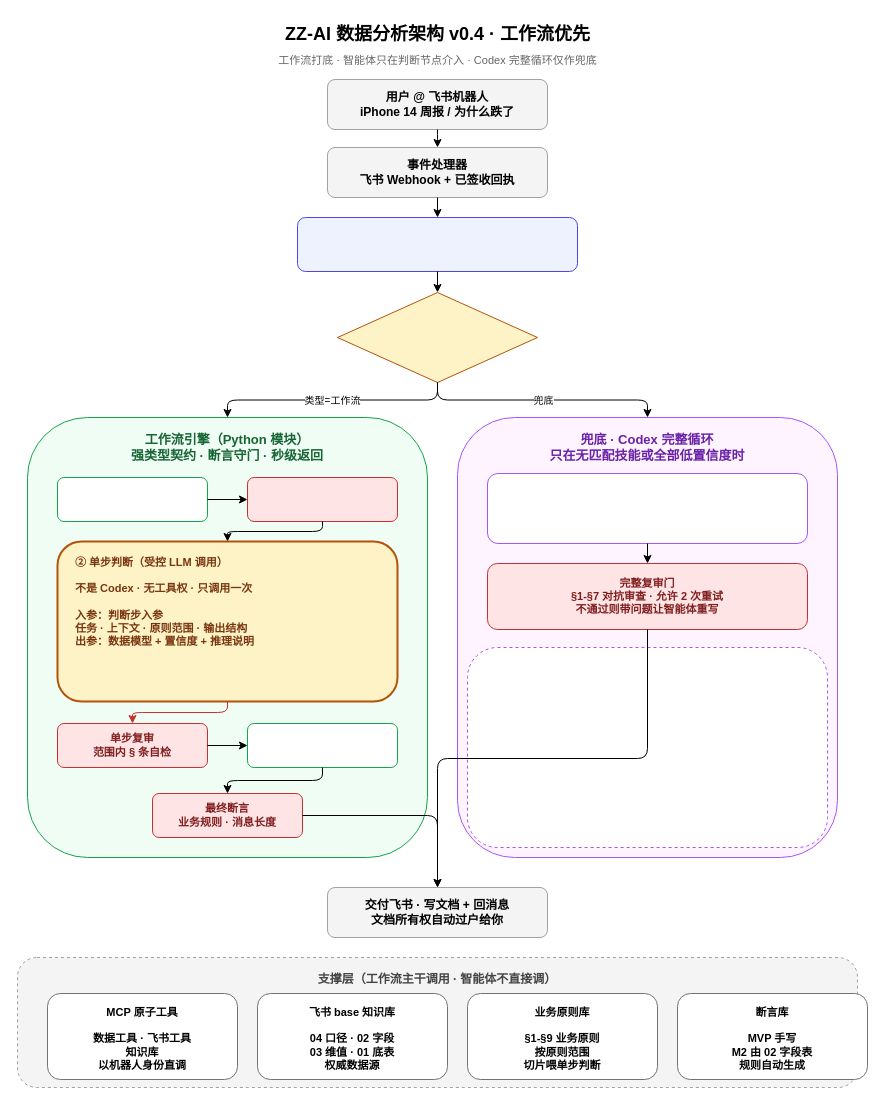
Image size: 885x1105. Some labels were removed from this diagram. The shapes that lost their labels are listed below. From the top down, each one's centre as x and y in pixels, then its label:
At [437,244]: "路由器 · LLM 生成调用计划 gpt-5.4-mini · 扫描技能目录出【技能列表】".
At [437,337]: "分派 读 技能.类型".
At [132,499]: "① 确定步骤 SQL · Excel · 模板".
At [322,499]: "断言 分区 · UV>0 · 结构校验".
At [647,508]: "完整智能体循环 规划 · MCP 工具调用 · 推理 · 循环 gpt-5.5 xhigh · 分钟级".
At [322,745]: "③ 拼装模板 Markdown · 飞书文档".
At [647,747]: "兜底路径的特征 • 有工具权（可自由调 MCP） • 无强类型输出契约 • 完整复审门兜底 • 慢但兼容开放式问题 → 未来把命中场景抽成工作流技能".
